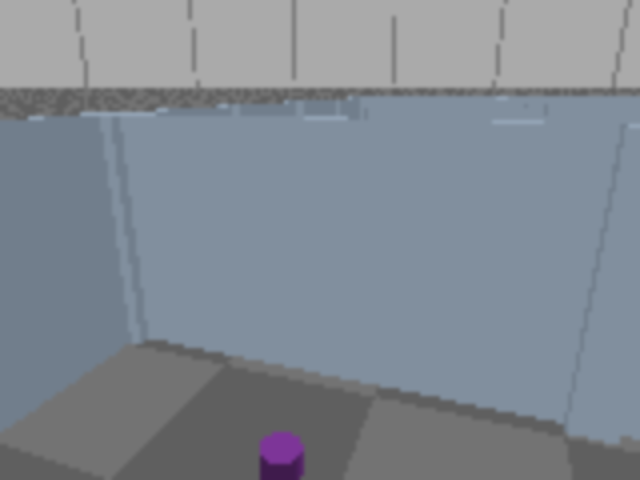puck: (261, 434, 301, 478)
